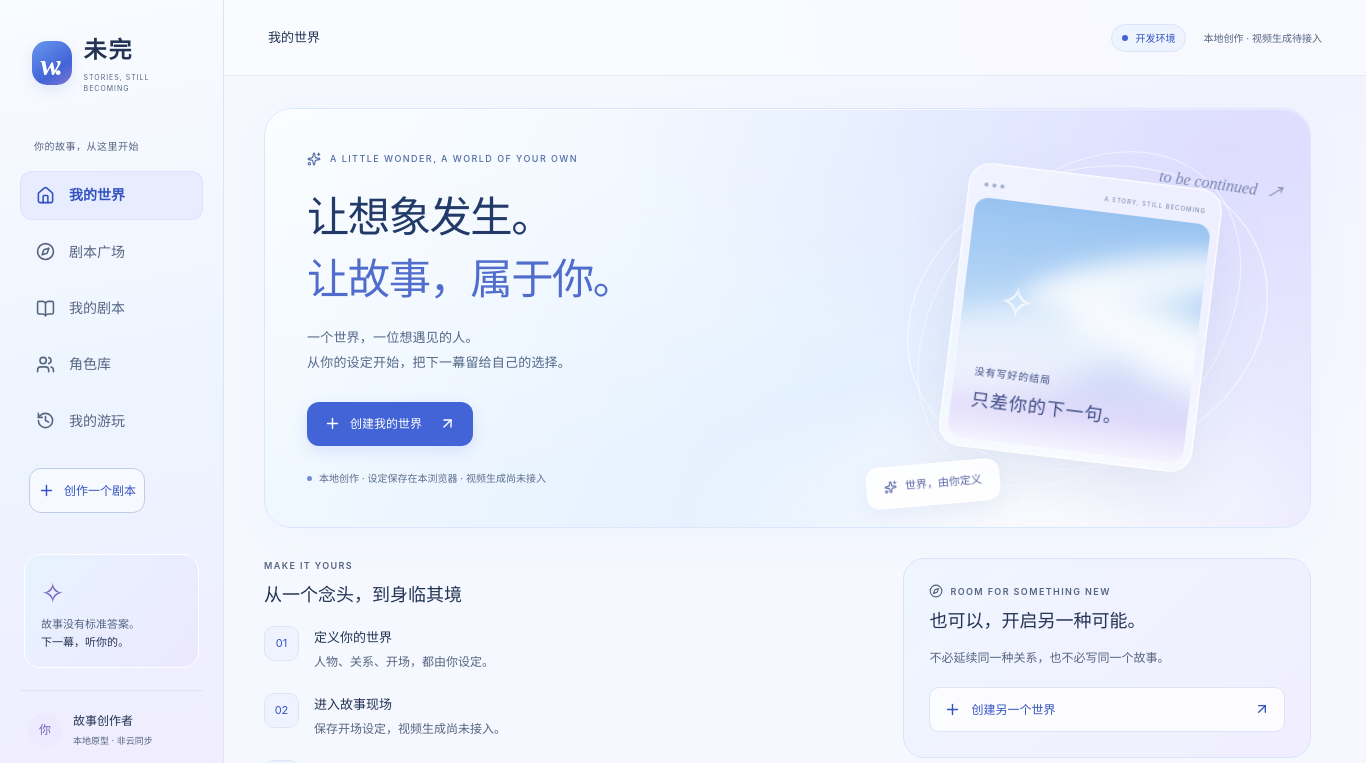
Test: dev never opens frontend demo and retains authoring
Expected: the heading "让想象发生。让故事，属于你。" is shown, [307,191,634,304]
What coordinates should you click on to do the following:
click the button "剧本广场"
I would click on:
 (112, 252)
Its box is [20,228,203,276].
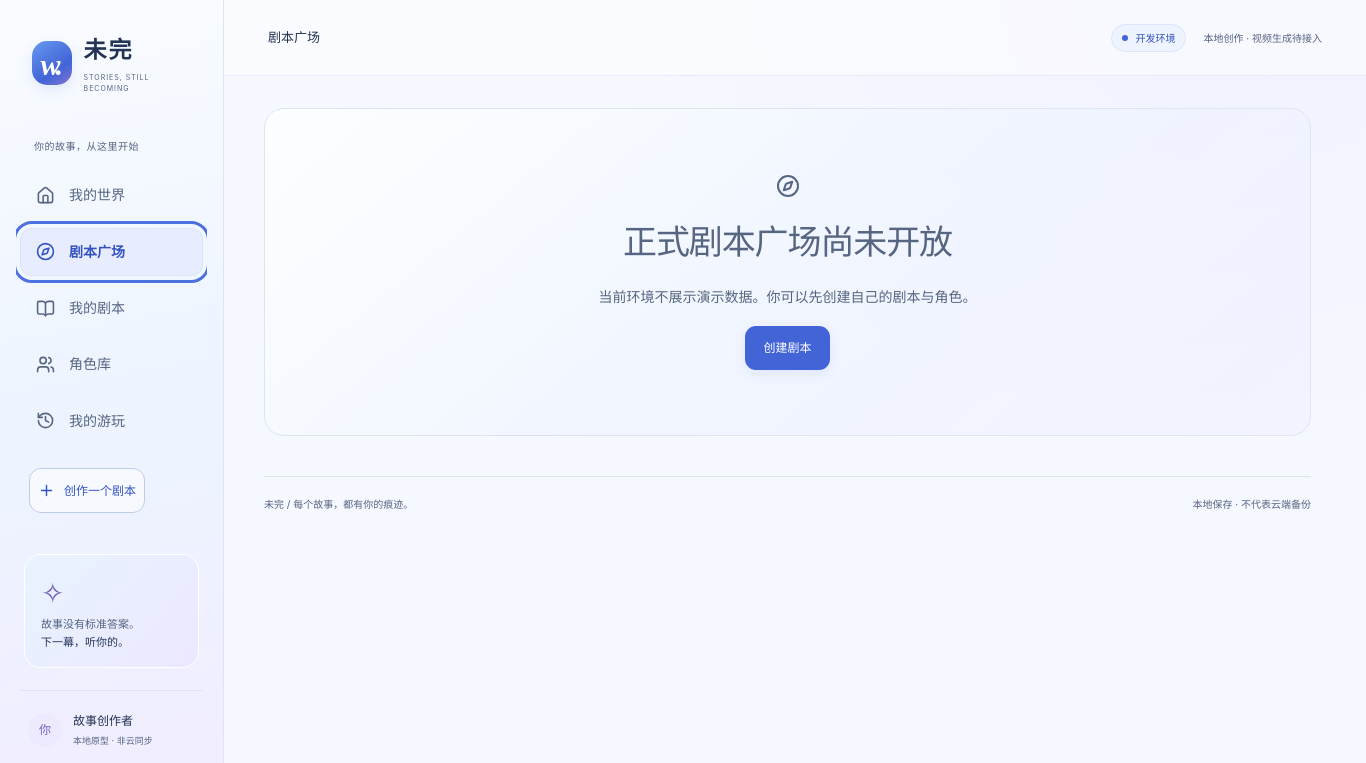
Result: the heading "正式剧本广场尚未开放" is shown at [623,215,952,269]
What coordinates should you click on to do the following:
click the button "我的剧本"
I would click on:
 (112, 308)
Its box is [20,284,203,332].
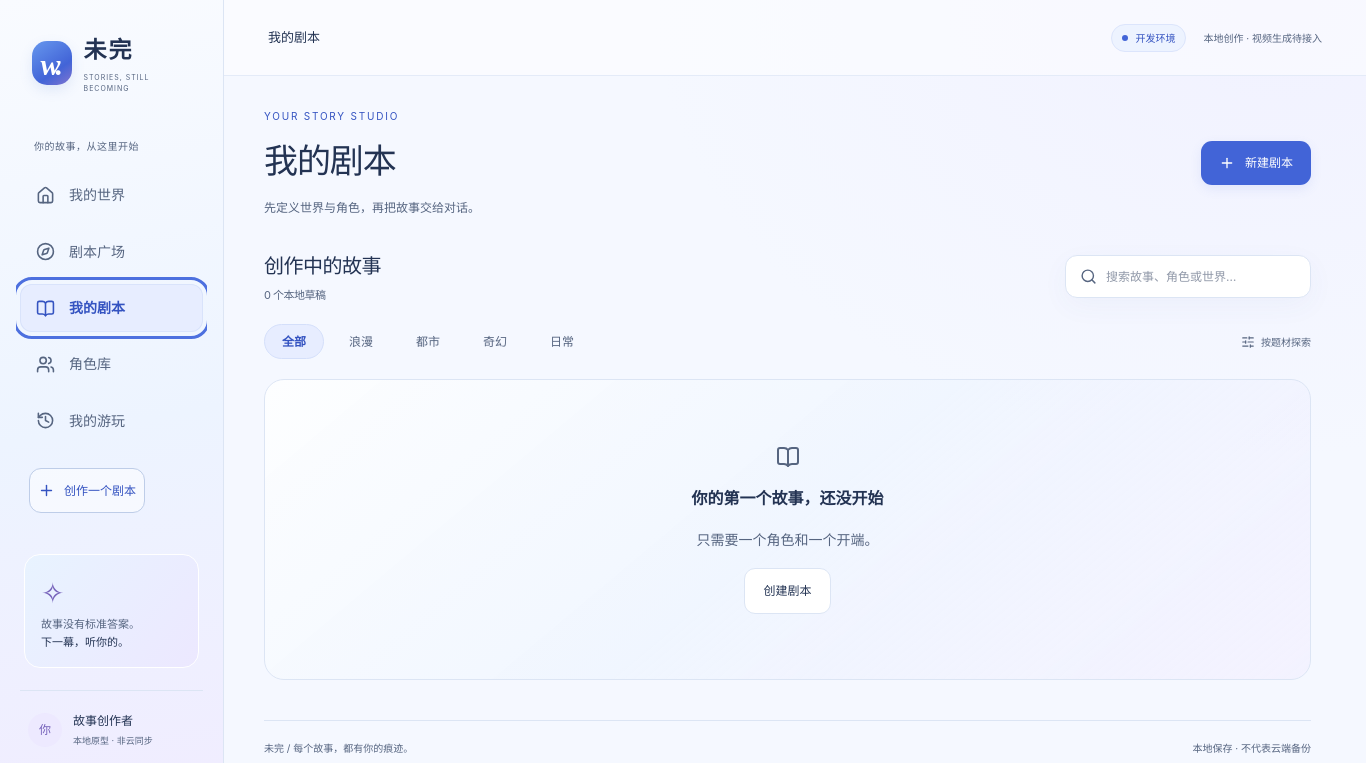
Result: the button "新建剧本" is shown at [1201,141,1311,185]
